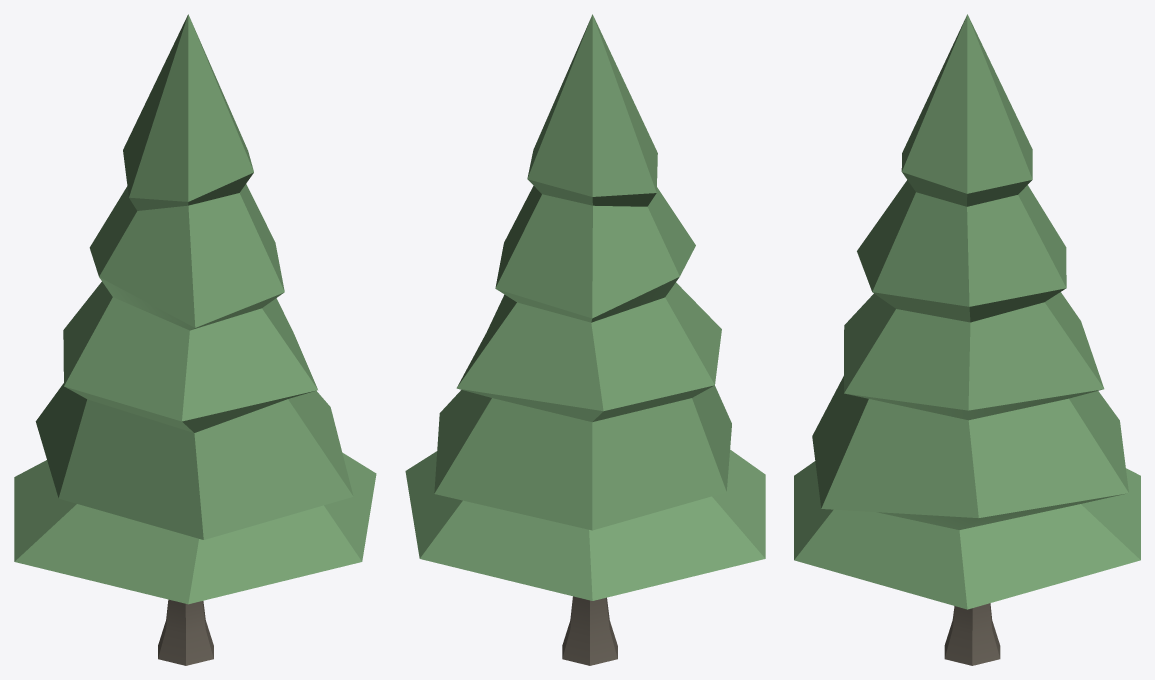
Rendered from Pine_tree_01.fbx.
3 renders of one model, left to right at view 1: azimuth 30°, elevation 25°; view 2: azimuth 150°, elevation 25°; view 3: azimuth 270°, elevation 25°, orthographic.
Visible parts, largest first — view 1: Pine_Tree; view 2: Pine_Tree; view 3: Pine_Tree.
Boxes of the visible parts, left/top/right/bottom form: Pine_Tree: left=14, top=14, right=376, bottom=665; Pine_Tree: left=405, top=14, right=765, bottom=665; Pine_Tree: left=794, top=14, right=1140, bottom=665.
Bounding box in the file's own units: 4.77 × 8.07 × 3.97.
